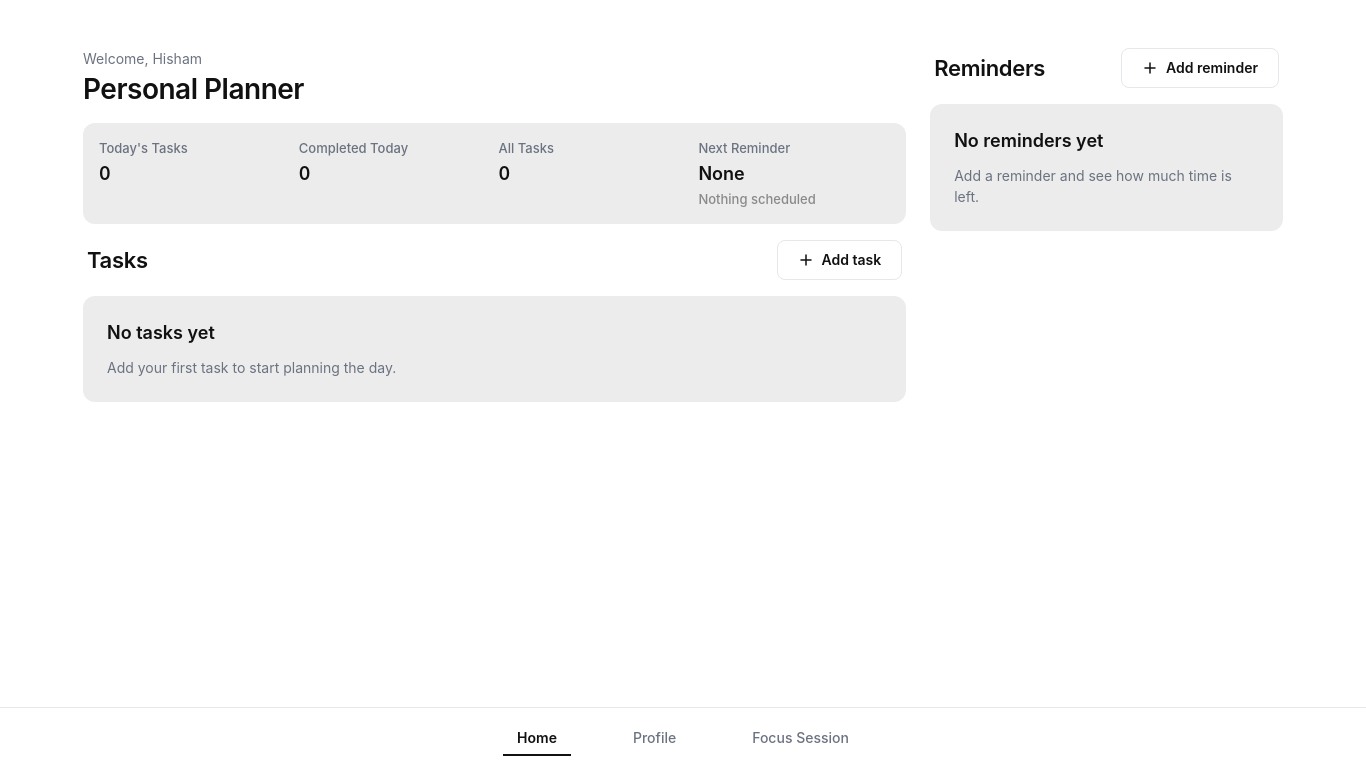
Scenario: screen composition › opens the composer inside the column that owns it
Expected: the heading "Personal Planner" is shown, 83,72 -> 304,106
Click the button "Add reminder": (1200, 68) 1121,48 -> 1279,88
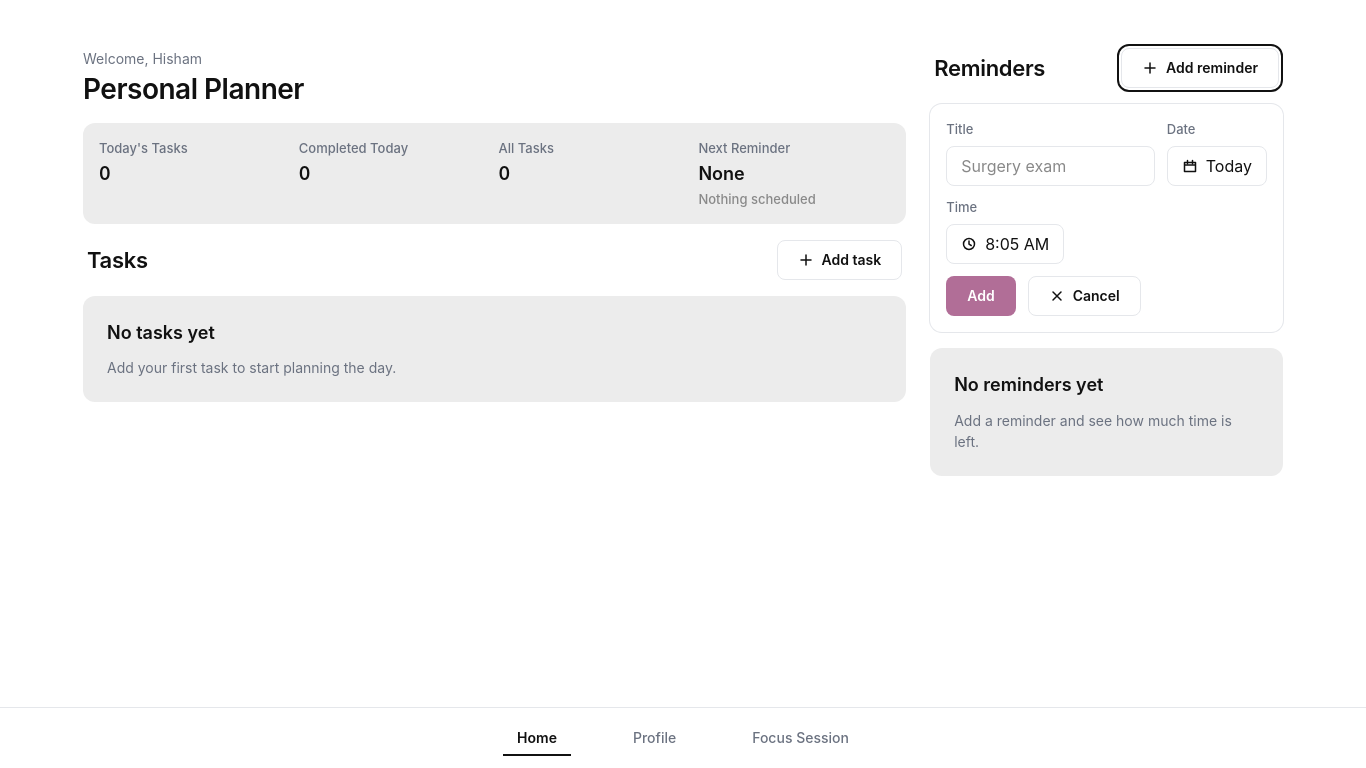
Expected: the form named "Add reminder" is shown, 930,104 -> 1283,332
